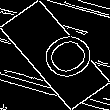O_SW: (18, 22, 92, 88)
